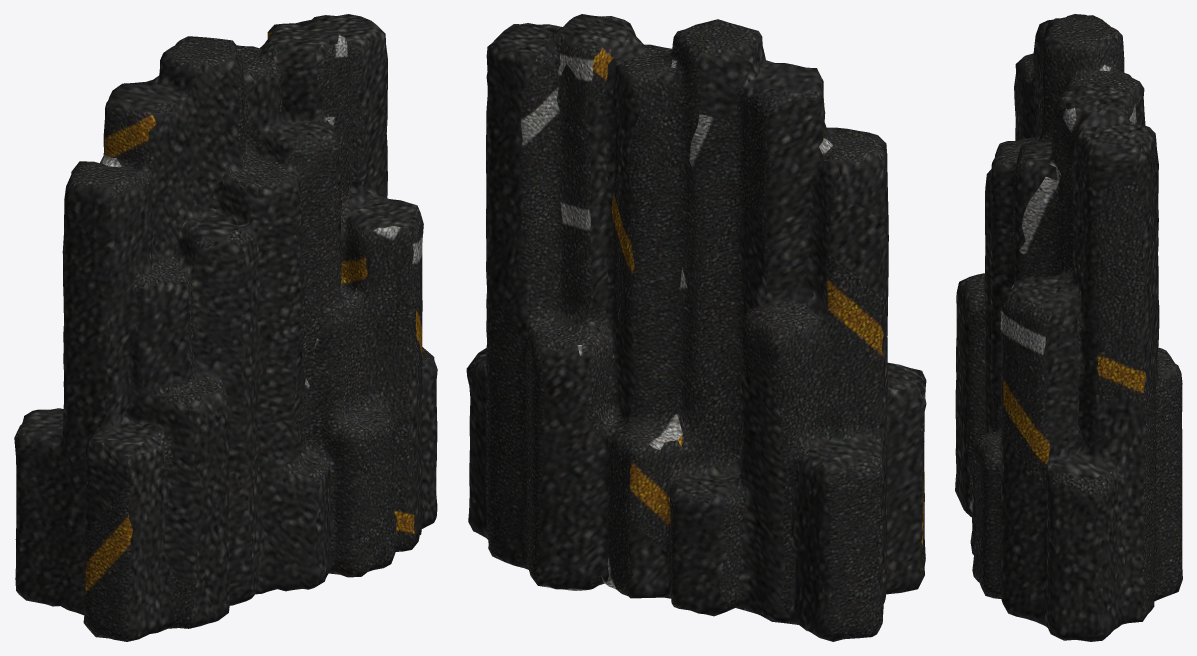
The model's file is CaveCrystal.dae.
3 renders of one model, left to right at view 1: azimuth 30°, elevation 25°; view 2: azimuth 150°, elevation 25°; view 3: azimuth 270°, elevation 25°, orthographic. The views are drawn at different scales.
Visible parts, largest first — view 1: CaveCrystal1; view 2: CaveCrystal1; view 3: CaveCrystal1.
Part boxes in pixels (bbox=[...]): CaveCrystal1: bbox=[14, 14, 437, 641]; CaveCrystal1: bbox=[466, 14, 926, 641]; CaveCrystal1: bbox=[955, 14, 1182, 641].
Bounding box in the file's own units: 65.56 × 32.94 × 81.62.
